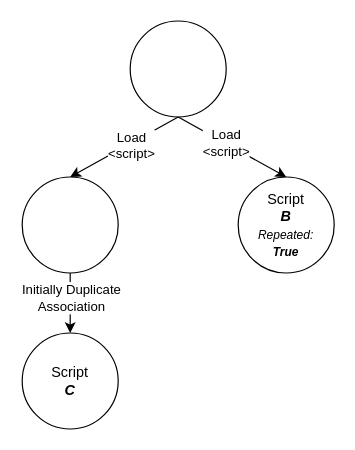
Some shapes in this 355 by 450 pixel diagram are drawn without their labels. Here are the shapes that lost their labels. From the top down, the box of each, then its label:
(129, 20, 226, 117): Visited Page Z
(21, 176, 118, 273): Script A Repeated: True
